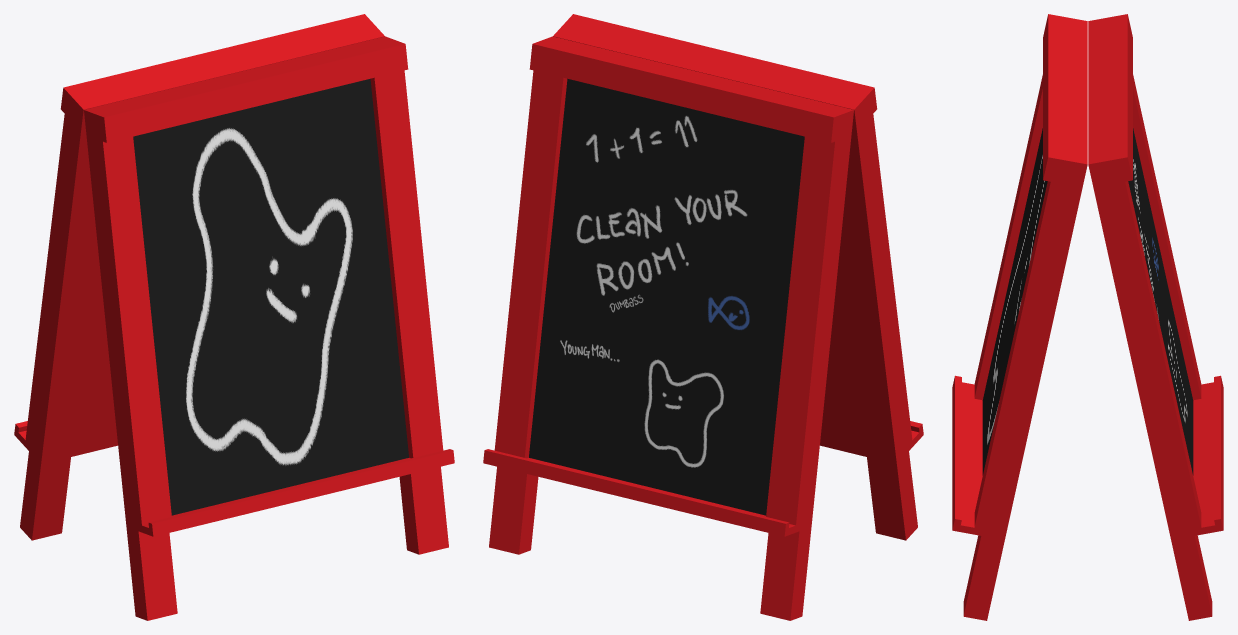
File: krijt.fbx
The picture shows the model from 3 angles, left to right: view 1: azimuth 30°, elevation 25°; view 2: azimuth 150°, elevation 25°; view 3: azimuth 270°, elevation 25°; orthographic projection. The views are drawn at different scales.
Parts seen in each view (by area): view 1: Cube.003; view 2: Cube.003; view 3: Cube.003.
Boxes of the visible parts, bbox=[...] form: Cube.003: bbox=[14, 14, 454, 620]; Cube.003: bbox=[483, 14, 923, 620]; Cube.003: bbox=[952, 14, 1223, 620].
Bounding box in the file's own units: 66 × 99.6 × 52.79.
